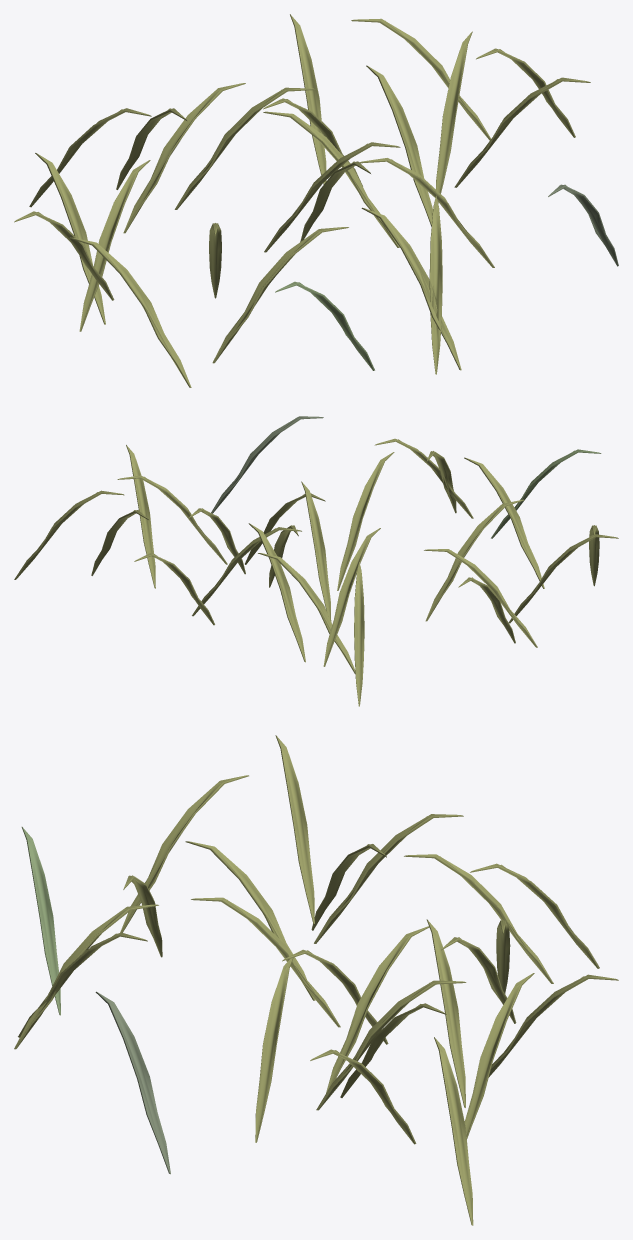
The model's file is less grass.fbx.
The picture shows the model from 3 angles, top to bottom: view 1: azimuth 30°, elevation 25°; view 2: azimuth 150°, elevation 25°; view 3: azimuth 270°, elevation 25°; orthographic projection. The views are drawn at different scales.
Visible parts, largest first — view 1: grass; view 2: grass; view 3: grass.
Part boxes in pixels (bbox=[...]): grass: bbox=[14, 14, 618, 387]; grass: bbox=[14, 416, 618, 706]; grass: bbox=[14, 735, 618, 1225].
Size of the model in its own units: 0.898 by 0.2035 by 0.6768.
